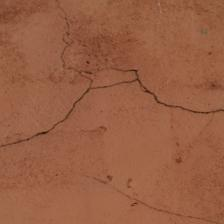Crack: (4, 91, 89, 151), (137, 80, 223, 117), (80, 63, 142, 97), (50, 2, 76, 71)
